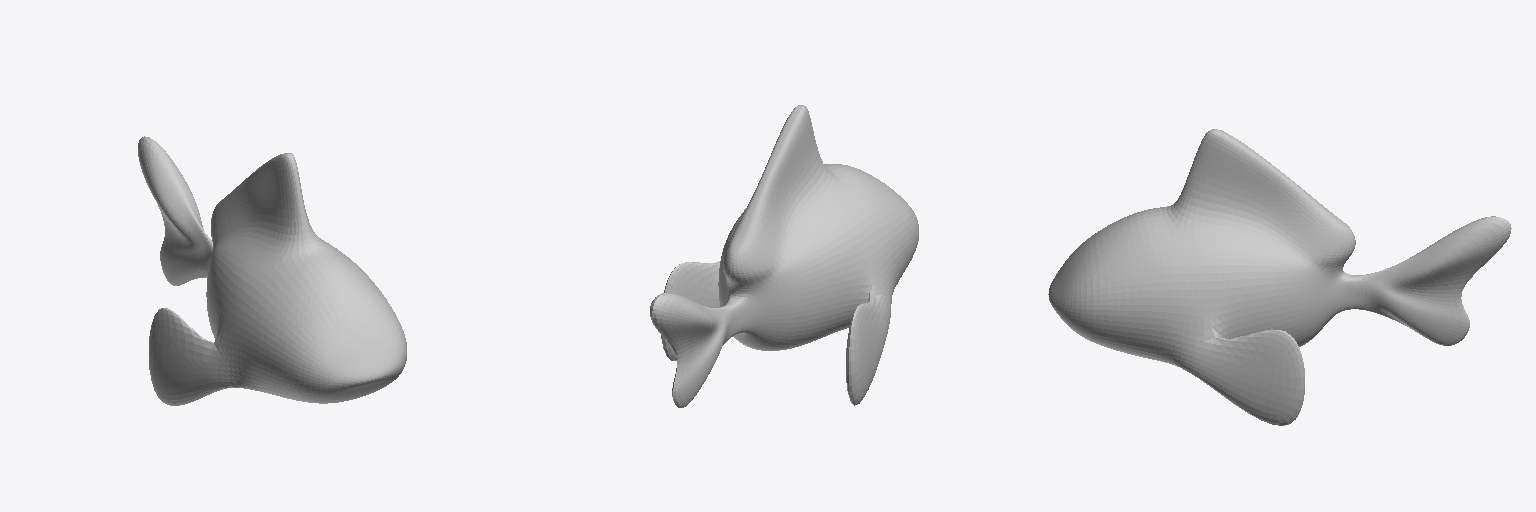
File: blub.obj
3 views of the same model, side by side, from view 1: azimuth 30°, elevation 25°; view 2: azimuth 150°, elevation 25°; view 3: azimuth 270°, elevation 25° (orthographic).
Parts seen in each view (by area): view 1: blub; view 2: blub; view 3: blub.
Part boxes in pixels (bbox=[...]): blub: bbox=[138, 136, 406, 405]; blub: bbox=[650, 105, 918, 407]; blub: bbox=[1048, 129, 1511, 425].
Size of the model in its own units: 0.4893 by 0.6007 by 1.